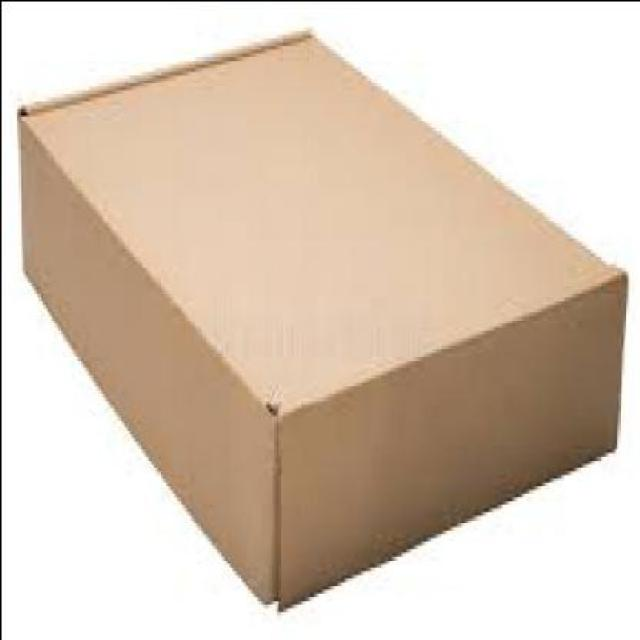CARDBOARD: (15, 22, 627, 607)
